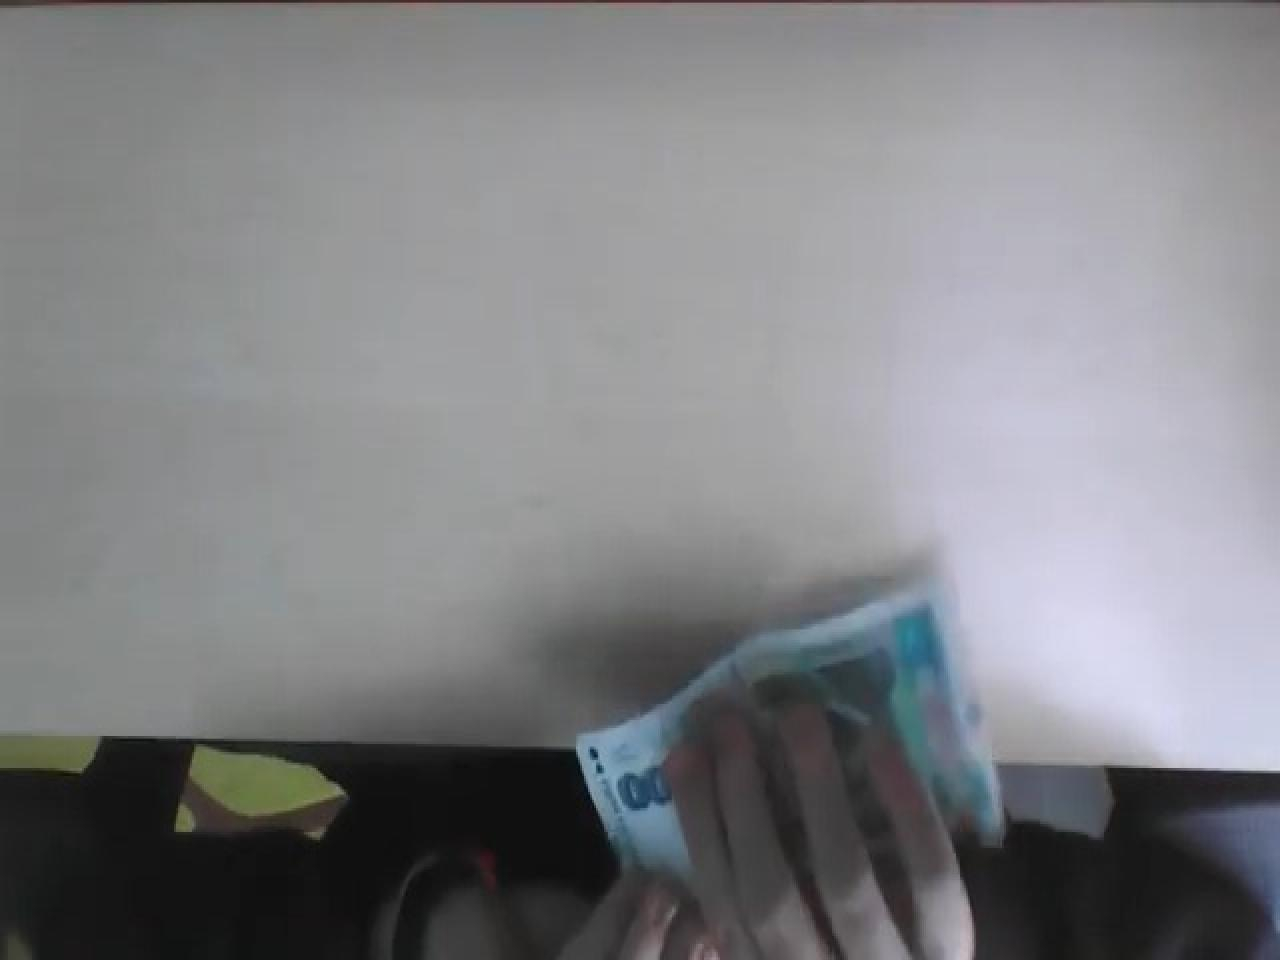100leva: (574, 576, 1010, 912)
